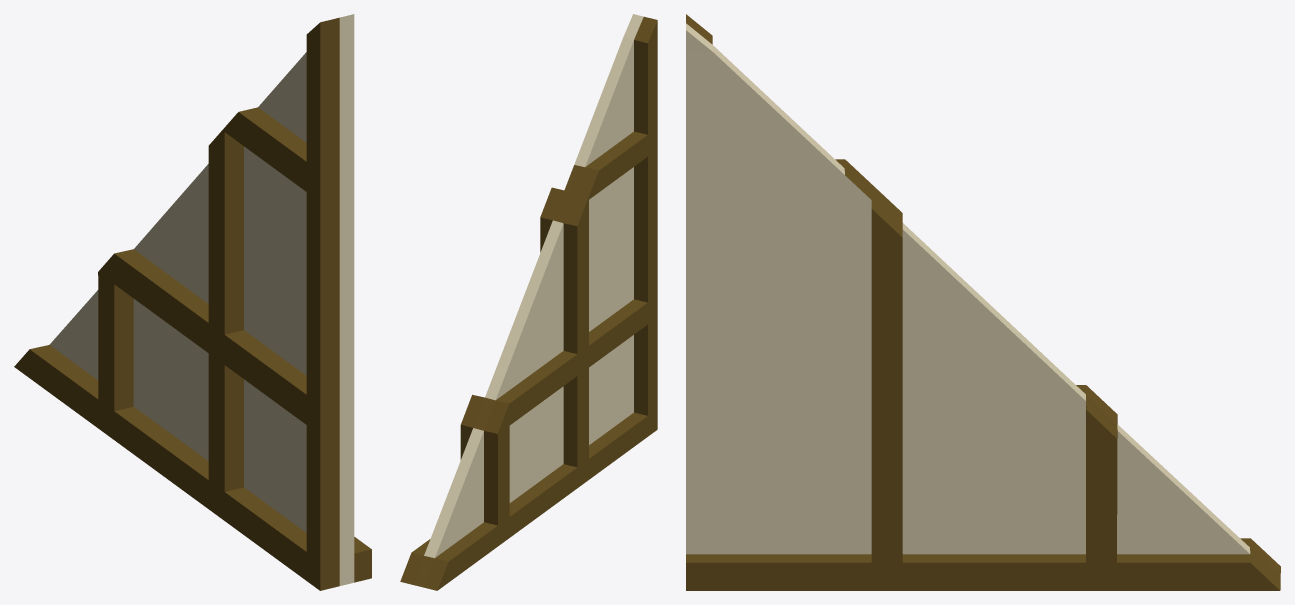
Rendered from SlantedWallLeft.fbx.
3 renders of one model, left to right at view 1: azimuth 30°, elevation 25°; view 2: azimuth 150°, elevation 25°; view 3: azimuth 270°, elevation 25°, orthographic. The views are drawn at different scales.
Visible parts, largest first — view 1: pCube206; view 2: pCube206; view 3: pCube206.
Boxes of the visible parts, left/top/right/bottom form: pCube206: left=14, top=14, right=371, bottom=590; pCube206: left=400, top=14, right=657, bottom=590; pCube206: left=686, top=14, right=1280, bottom=590.
Size of the model in its own units: 0.2823 by 2.97 by 2.9.
